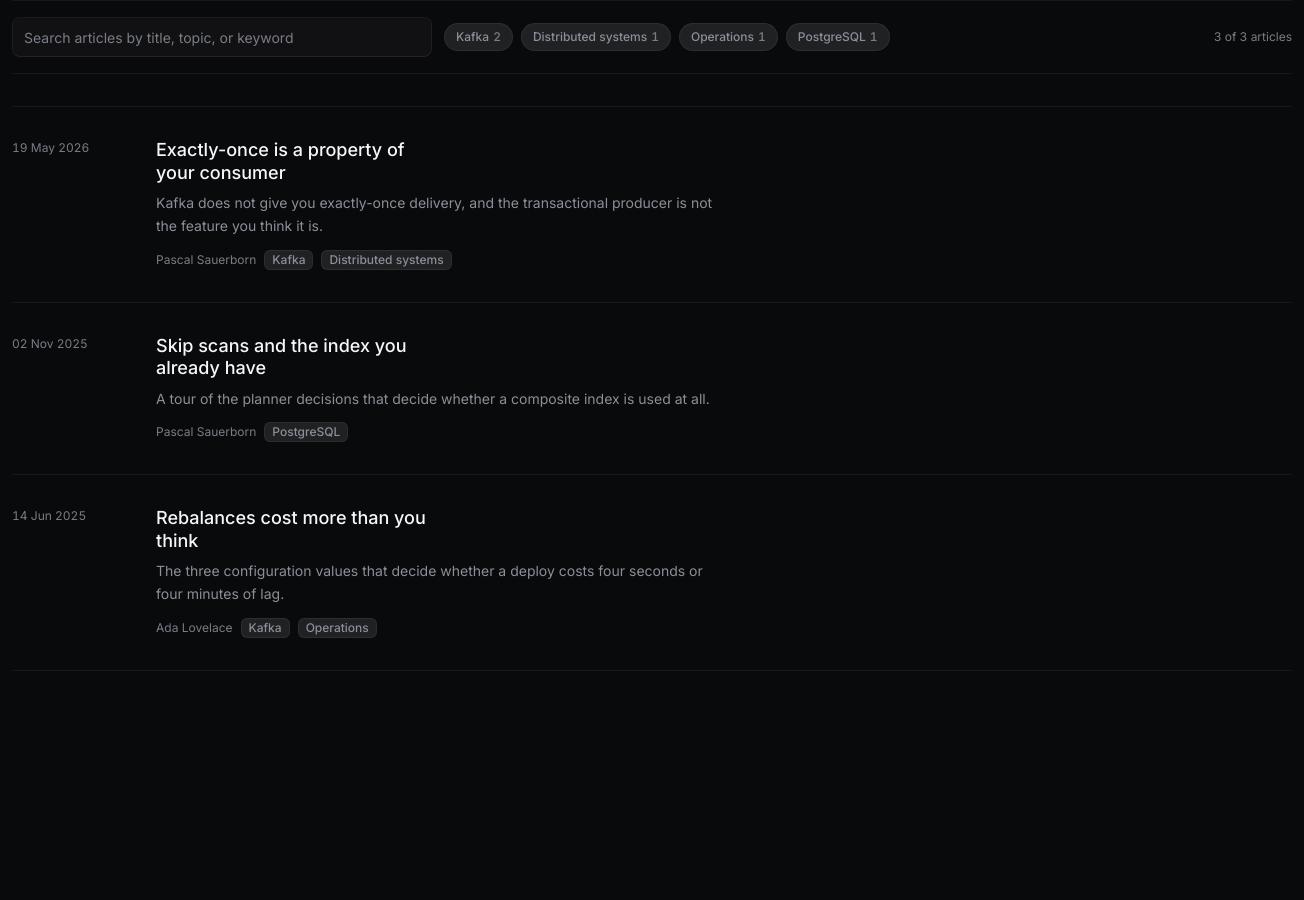
Test case: BlogIndex › renders the zero-match empty state when nothing matches
Type "kubernetes" into the search field at (222, 37), box [12,17,432,57]
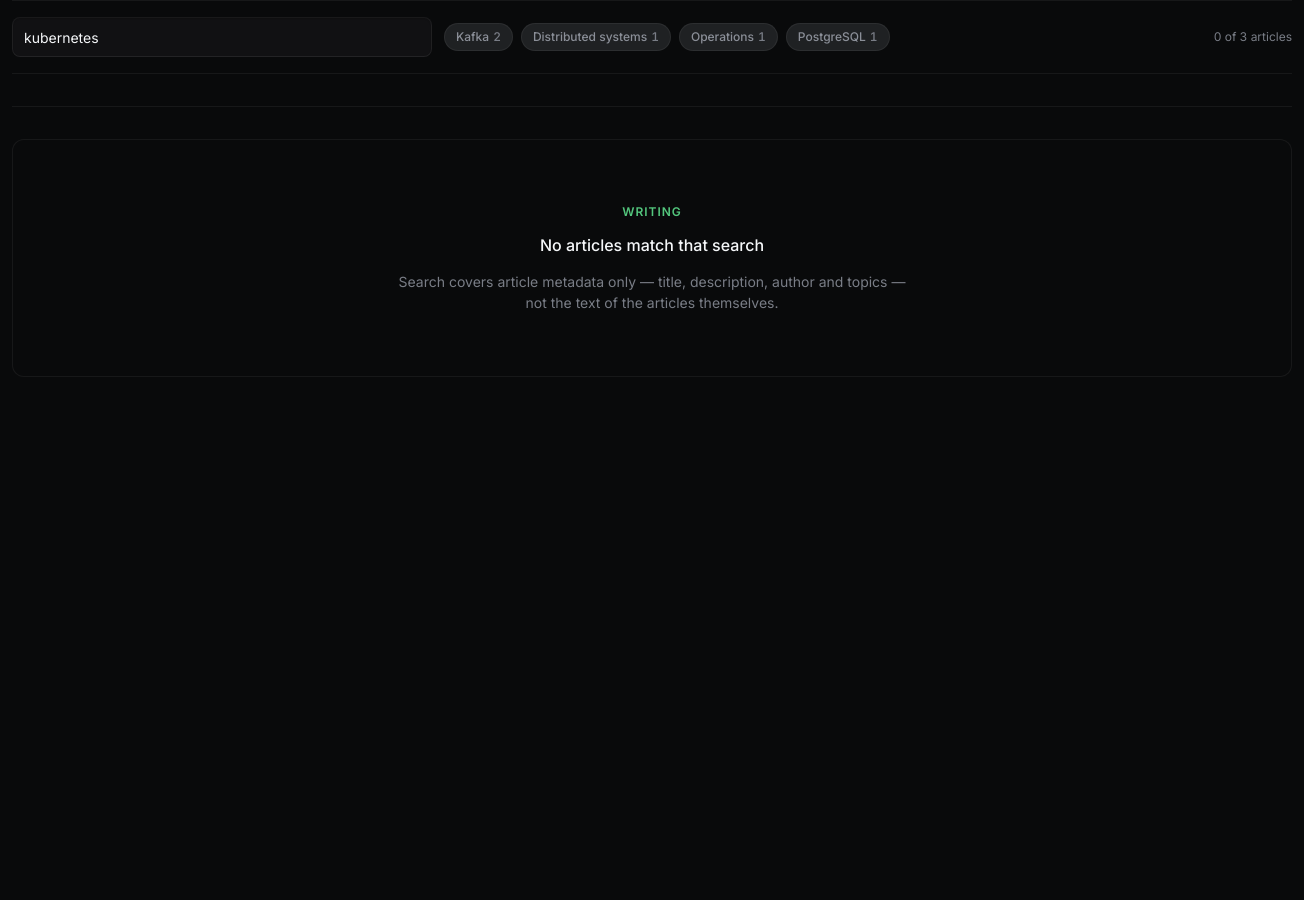
Check: the heading "No articles match that search" is shown, box [540,233,764,259]
Check: the text "metadata" is shown, box [398,273,905,311]
